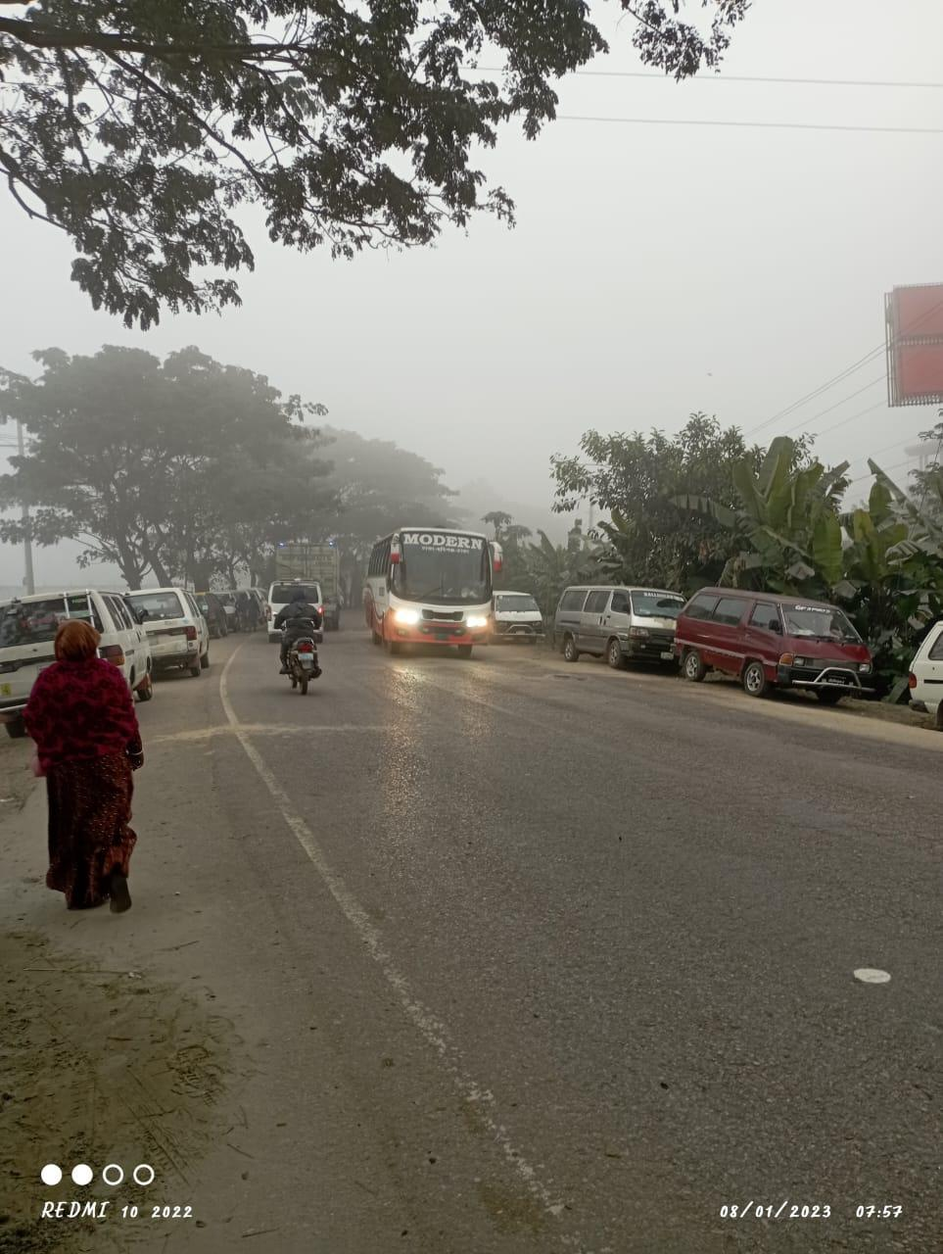Bike: (274, 588, 334, 693)
Bus: (354, 512, 505, 658)
Car: (671, 580, 874, 712), (558, 577, 662, 673), (123, 584, 217, 677), (495, 588, 549, 642)
